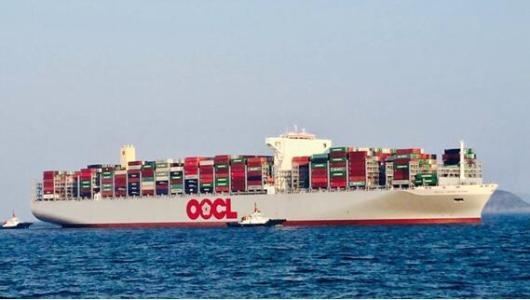Cargoship: (32, 124, 501, 225)
otherboat: (226, 206, 283, 233), (1, 211, 33, 232)
